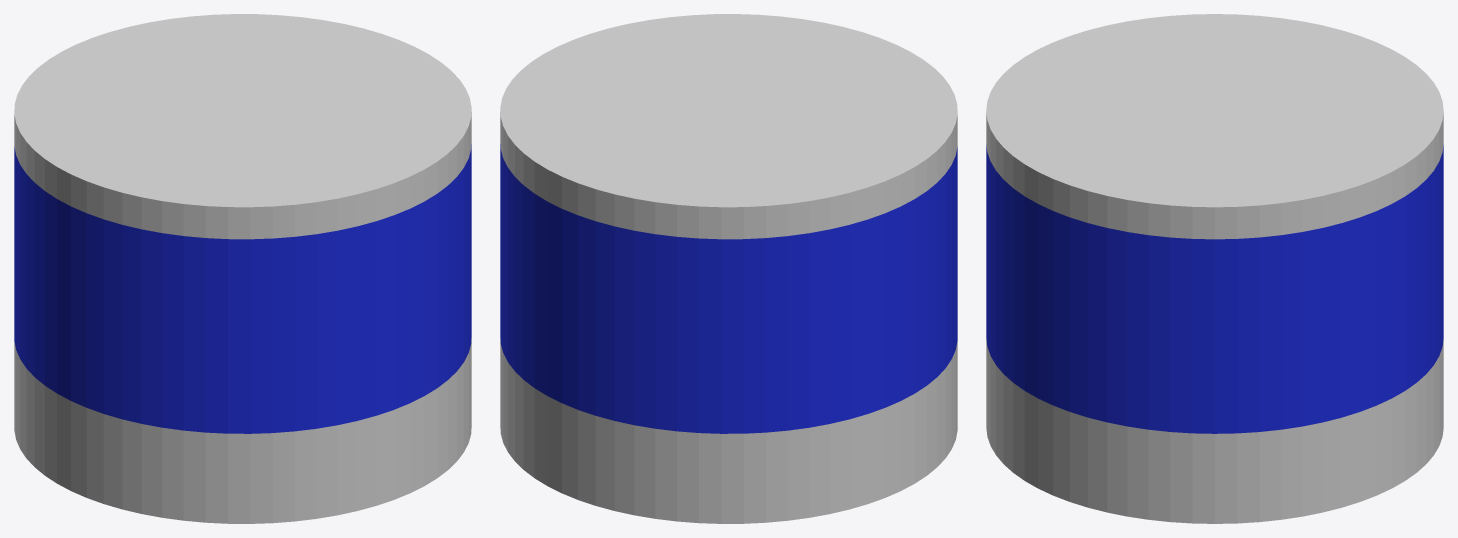
3 renders of one model, left to right at view 1: azimuth 30°, elevation 25°; view 2: azimuth 150°, elevation 25°; view 3: azimuth 270°, elevation 25°, orthographic.
Parts seen in each view (by area): view 1: Cylinder; view 2: Cylinder; view 3: Cylinder.
Part boxes in pixels (<box>): Cylinder: <box>14,14,471,523</box>; Cylinder: <box>500,14,957,523</box>; Cylinder: <box>986,14,1443,523</box>.
Bounding box in the file's own units: 0.102 × 0.102 × 0.0779.
